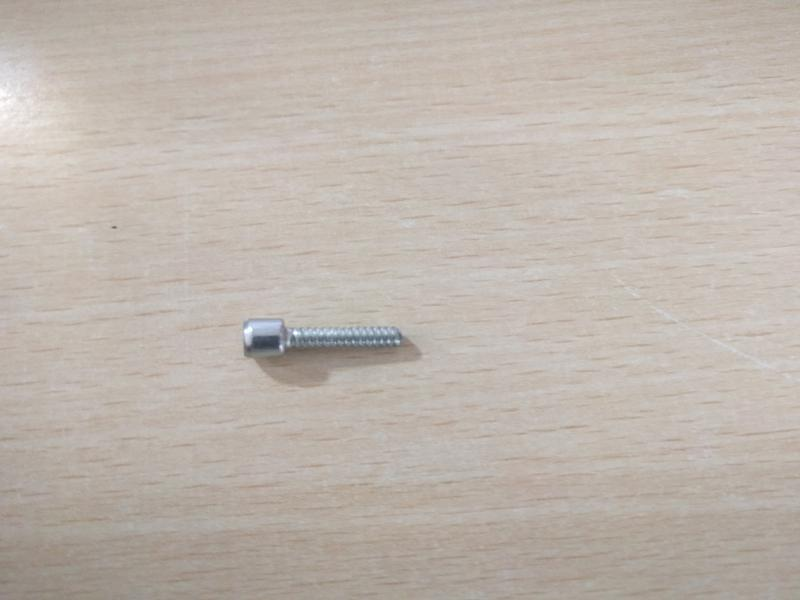smallscrew: (232, 305, 417, 379)
